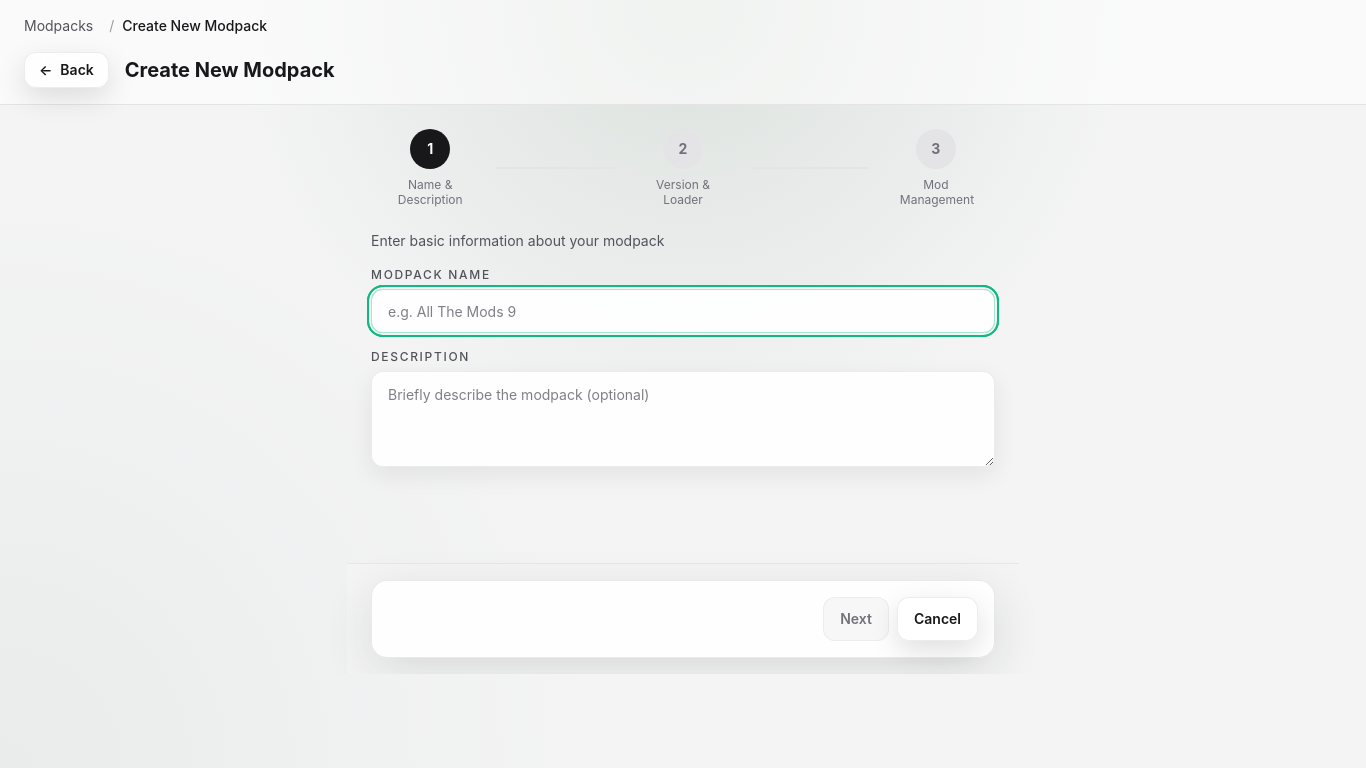
Scenario: ModpackCreationWizard flow layout › keeps the wizard action block inside the main content flow as a card section
Step 1. Type "Layout Pack" into the field labelled "Modpack name" → (683, 311), box left=371, top=289, right=995, bottom=333
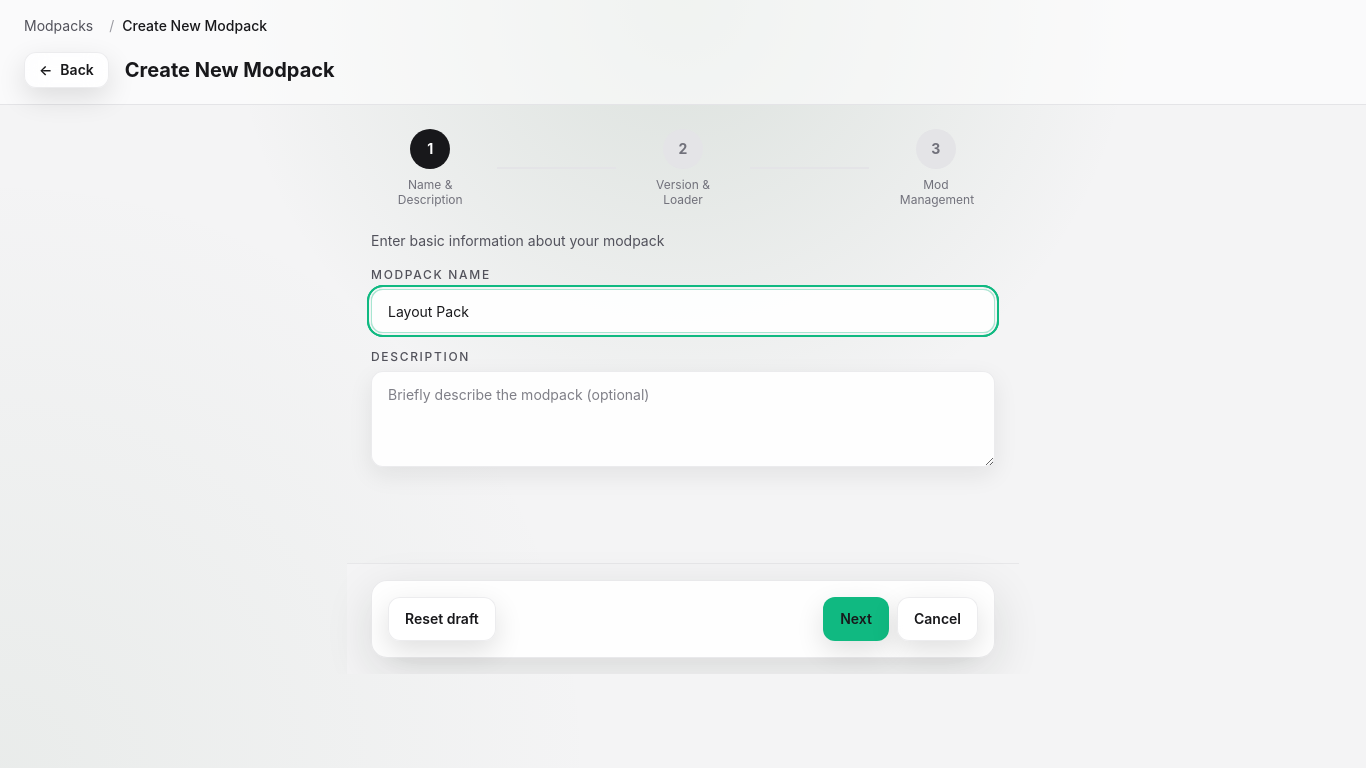
Step 2. Click the button "Next" → (856, 619), box left=823, top=597, right=889, bottom=641
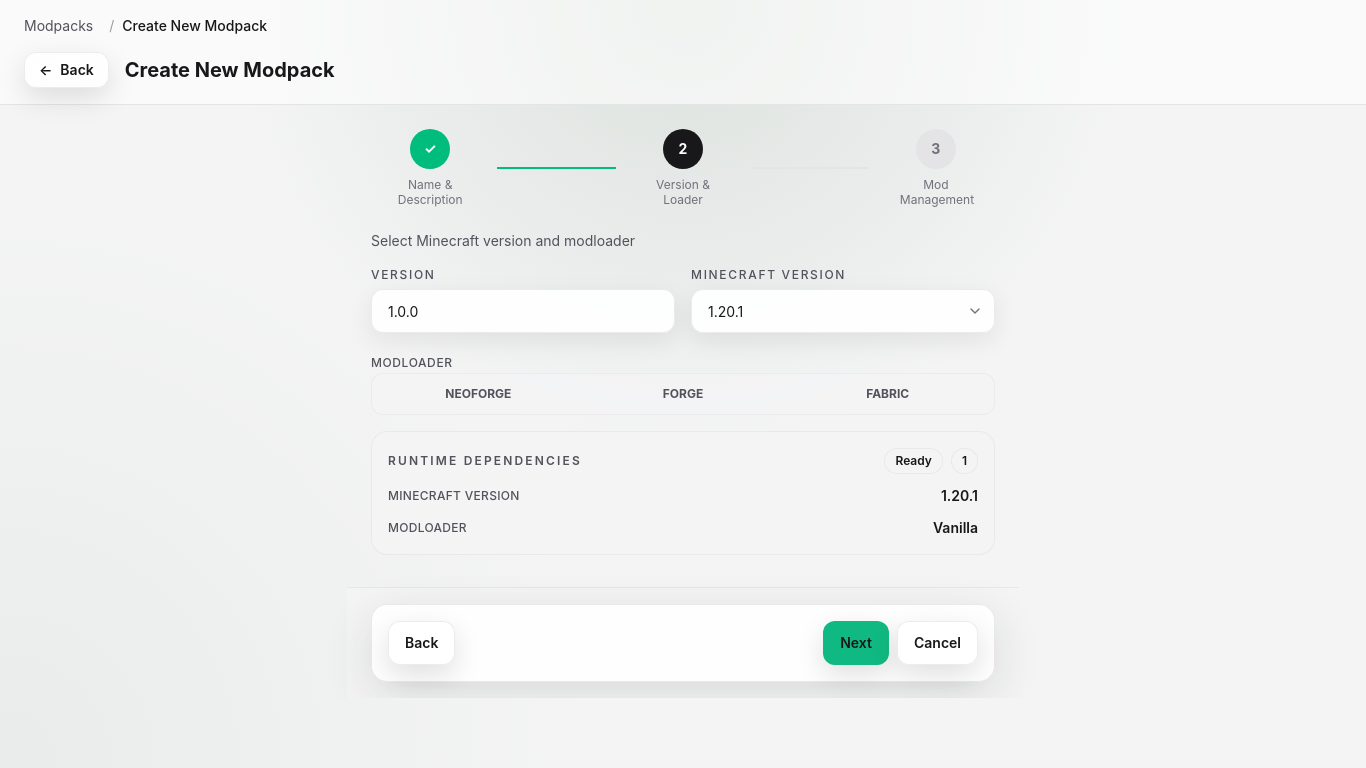
Result: the text with test id "modpack-dependency-count" reads "1" at left=962, top=453, right=967, bottom=468
